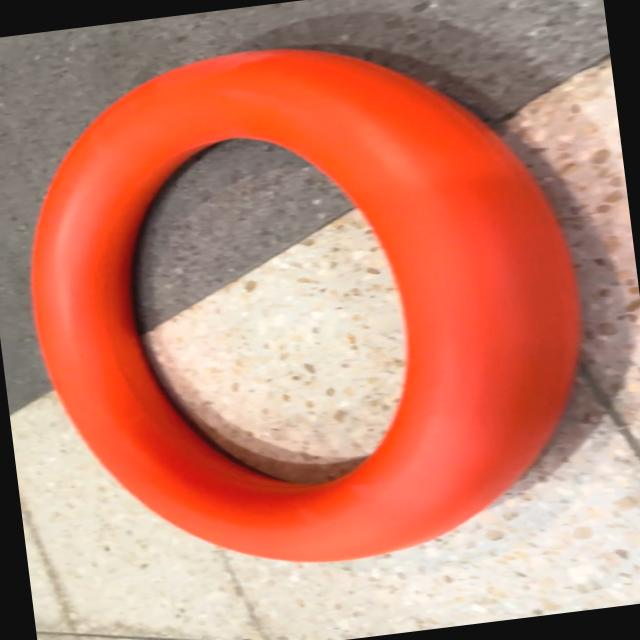note: (1, 11, 612, 596)
